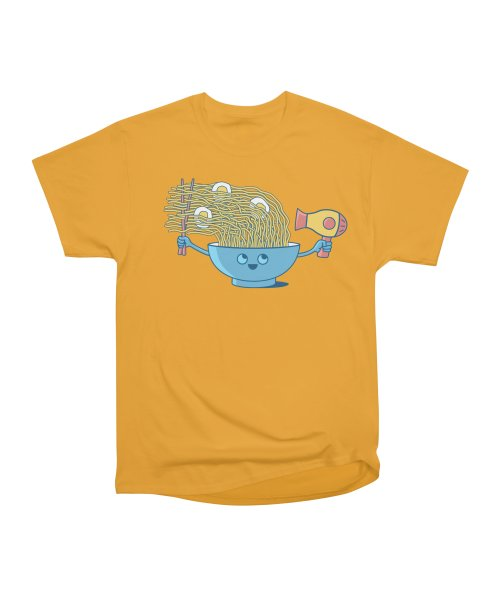design: (160, 173, 352, 294)
